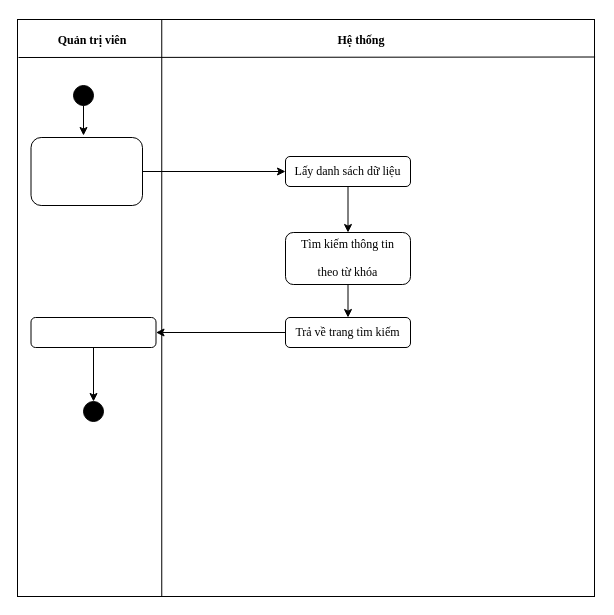
This 614x615 diagram has some shape labels left out. The centre of each missing label's shape, as x and y in pixels:
"Hiển thị kết quả" goes at [93,332].
"Nhập từ khóa muốn tìm kiếm" goes at [86,171].
